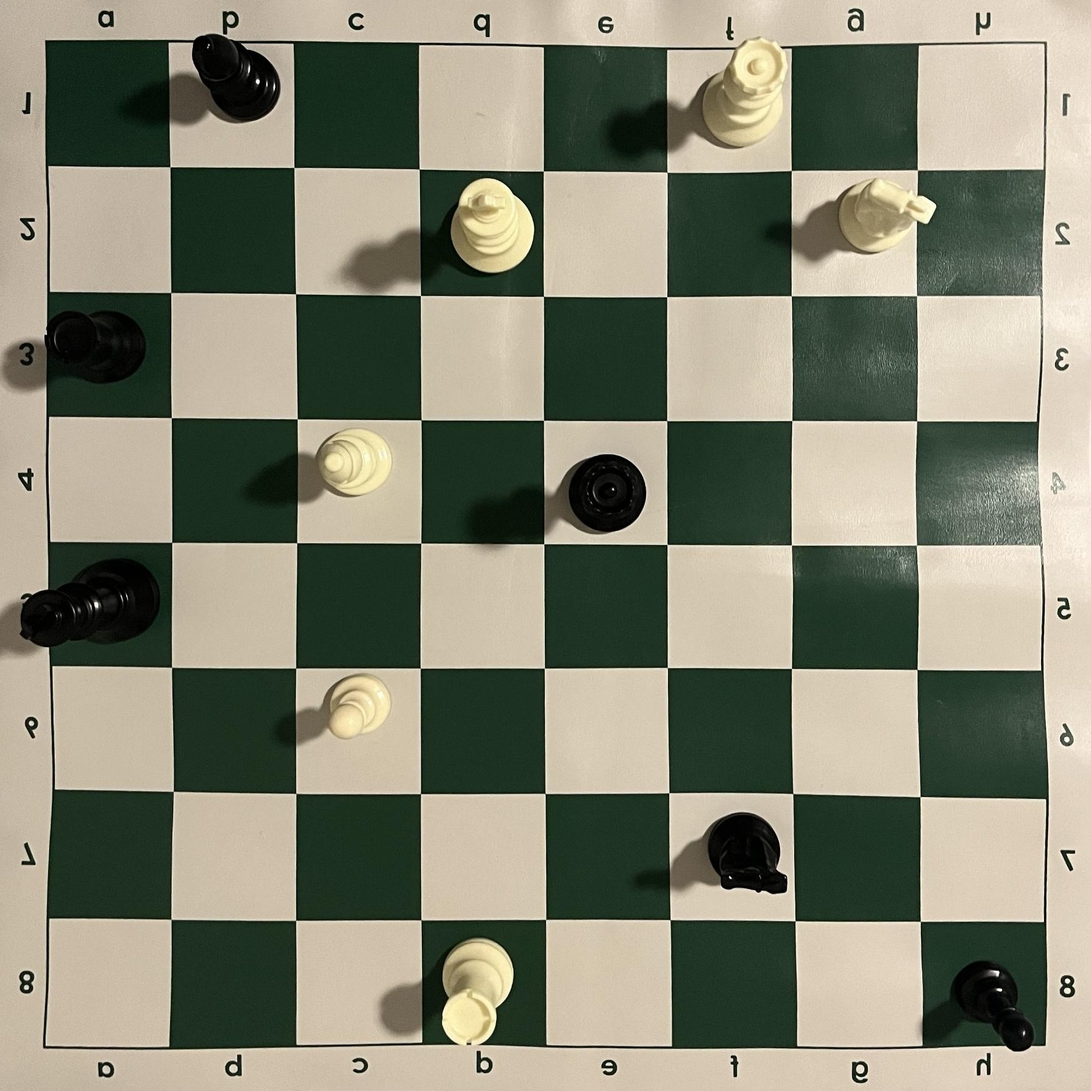black_bishop: (191, 33, 281, 122)
black_king: (18, 557, 160, 649)
black_knight: (707, 811, 788, 895)
black_pawn: (951, 960, 1034, 1052)
black_queen: (567, 453, 648, 533)
black_rook: (45, 310, 147, 385)
white_bishop: (315, 427, 393, 498)
white_king: (450, 178, 535, 274)
white_knight: (837, 176, 937, 254)
white_pawn: (327, 674, 393, 739)
white_queen: (700, 36, 790, 148)
white_rook: (441, 936, 514, 1046)
